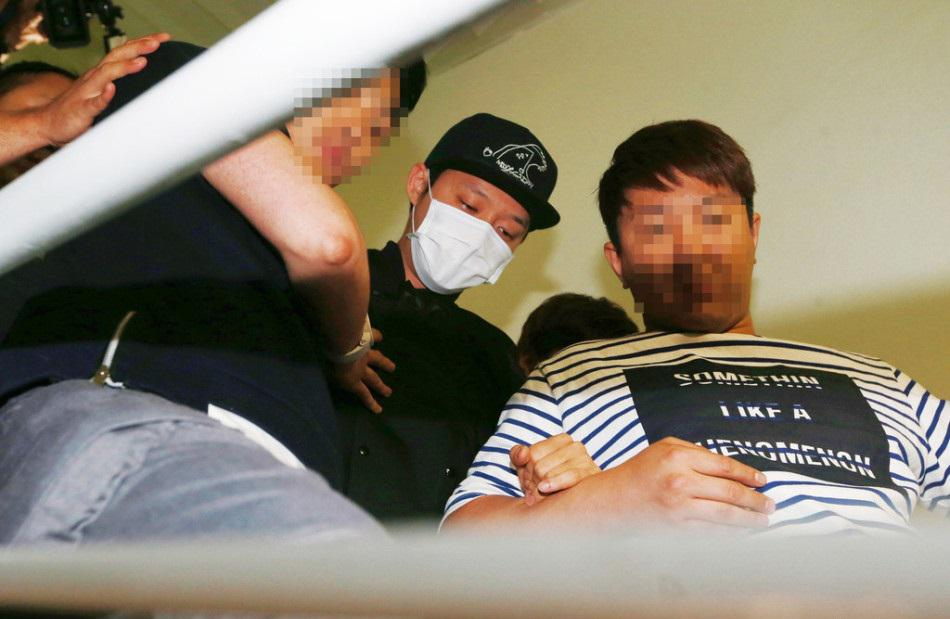OK: (415, 168, 539, 292)
